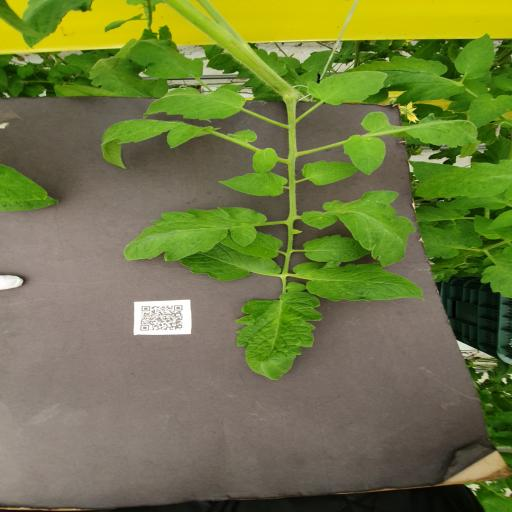Healthy: (299, 190, 418, 267), (113, 205, 267, 263), (230, 290, 320, 382), (290, 260, 428, 304), (98, 118, 212, 170), (346, 57, 468, 105), (413, 159, 512, 199), (20, 0, 95, 50), (179, 245, 279, 282), (140, 87, 248, 121), (306, 69, 391, 107), (452, 32, 495, 80), (215, 171, 287, 199), (342, 134, 387, 178), (305, 234, 370, 264), (301, 158, 358, 188), (468, 92, 512, 129), (252, 147, 278, 175)
